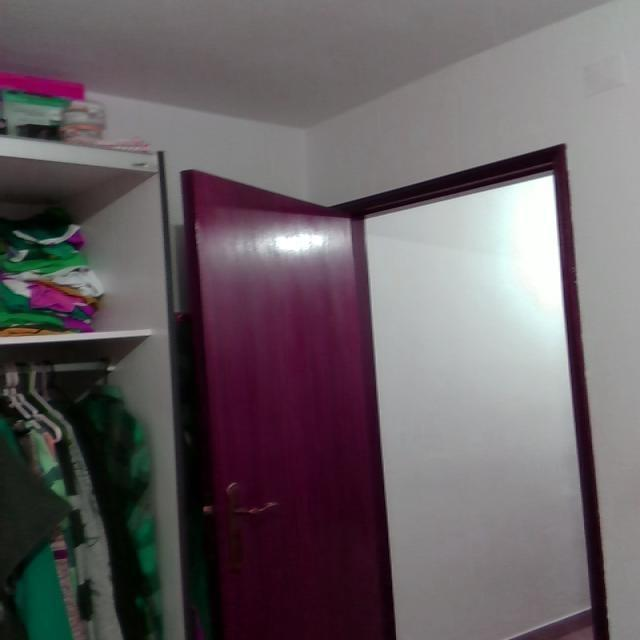door: (171, 158, 397, 640)
